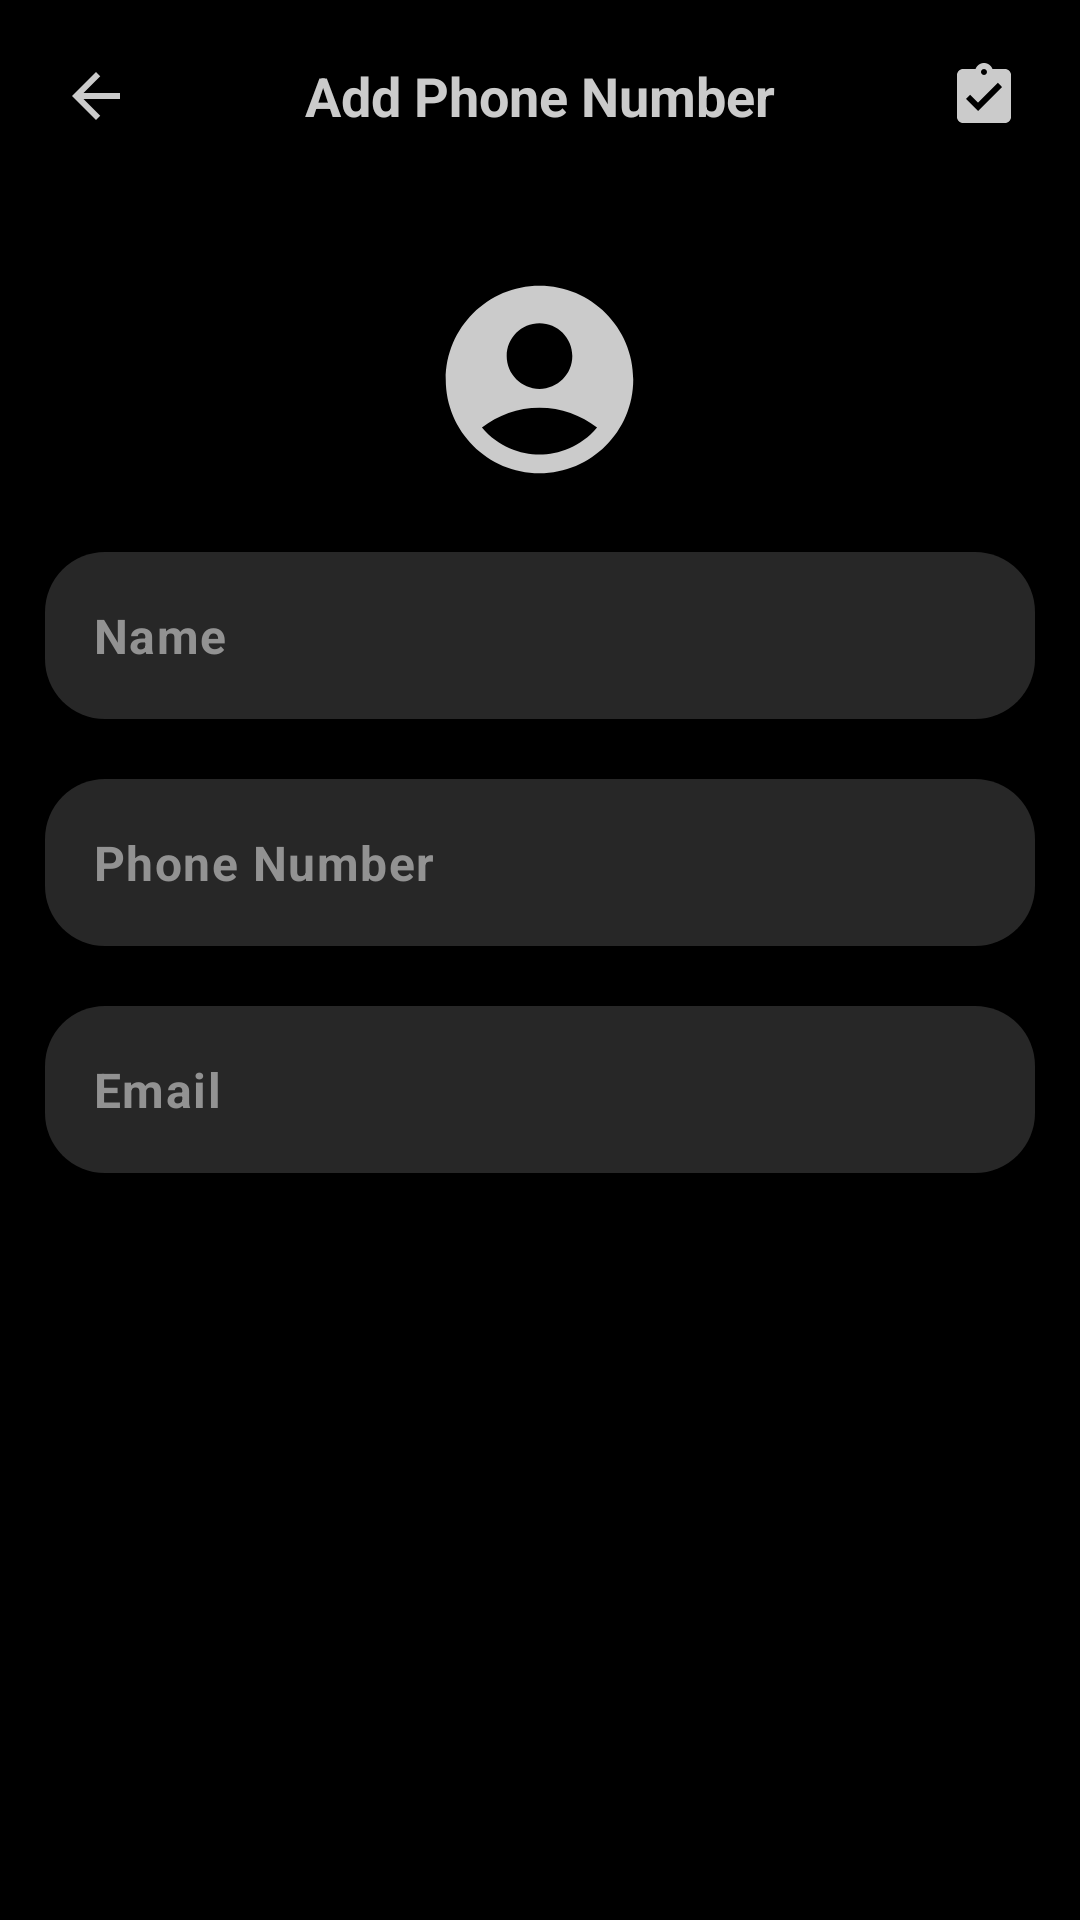

Named icons in this screenshot (1080px x 1920px) and their bounding boxes, bbox=(x1, y1, x2, y2):
arrow back: bbox=(72, 72, 120, 120)
person: bbox=(445, 285, 634, 474)
save: bbox=(957, 63, 1011, 123)
